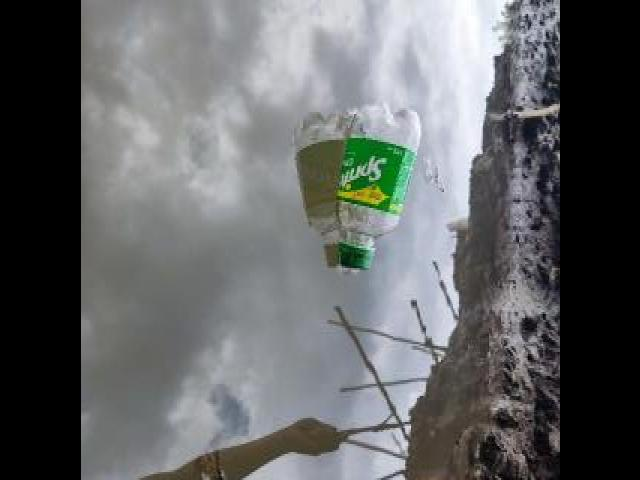Bottle: (326, 96, 424, 274)
